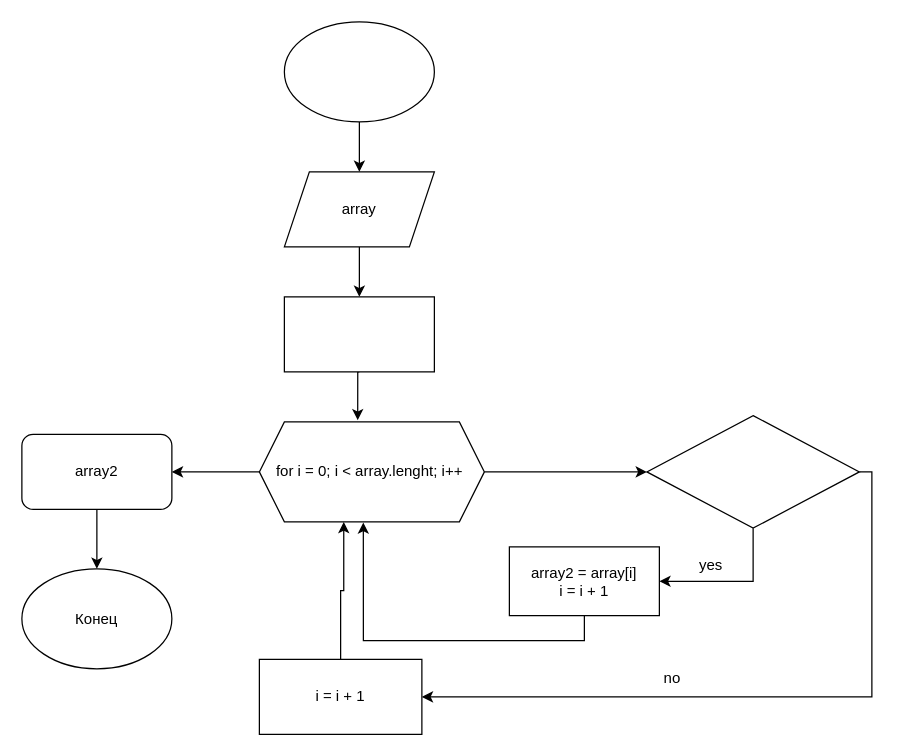
This 904x756 diagram has some shape labels left out. Each missing label, with the centre of its shape:
array = array.split() array2: the point at 358,334
array[i].lenght <= 3: the point at 752,471
Начало: the point at 358,71
